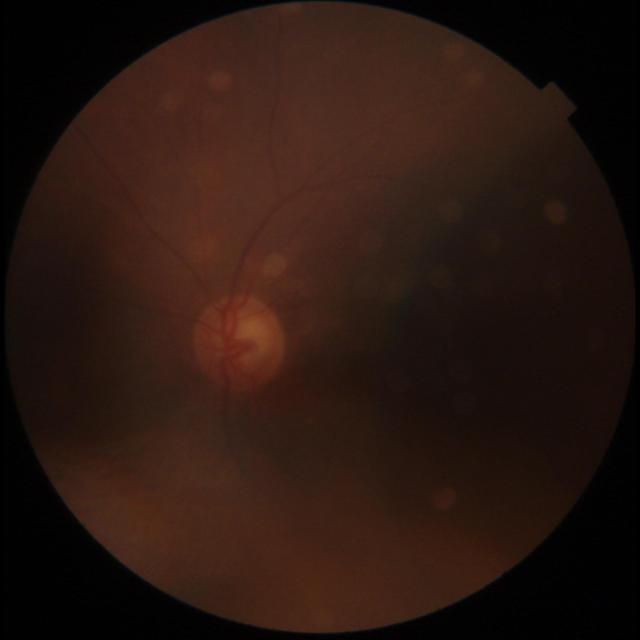OC: (222, 320, 266, 364)
OD: (191, 295, 286, 393)
